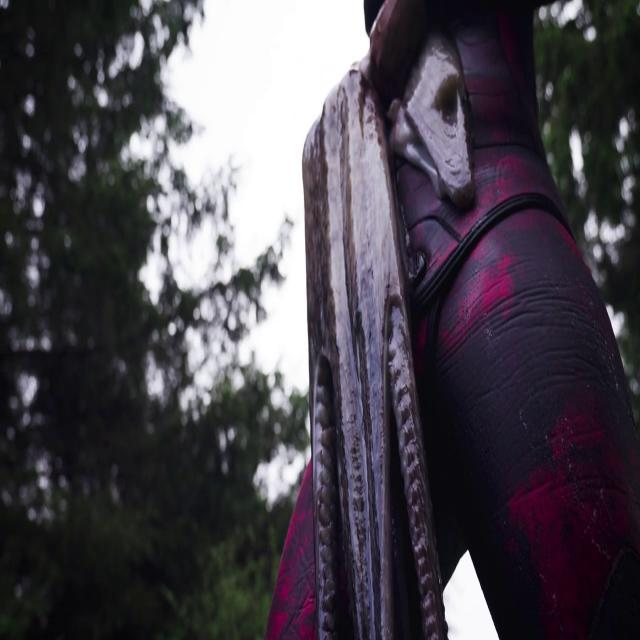octopus: (297, 3, 476, 640)
